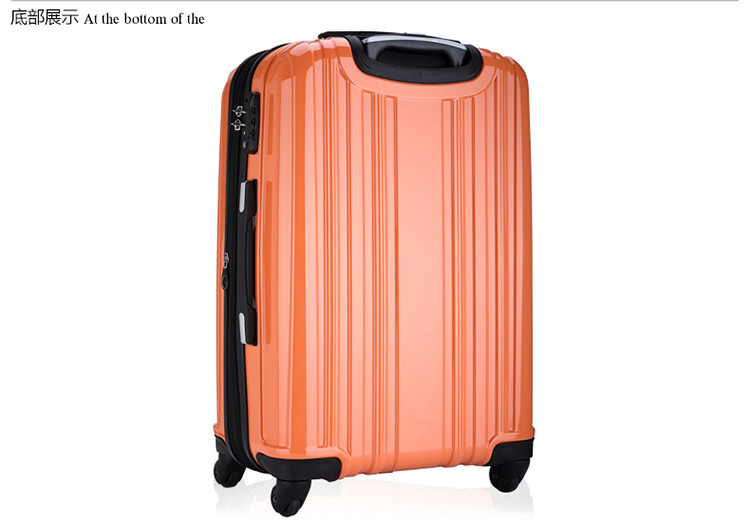luggage: (210, 26, 536, 517)
